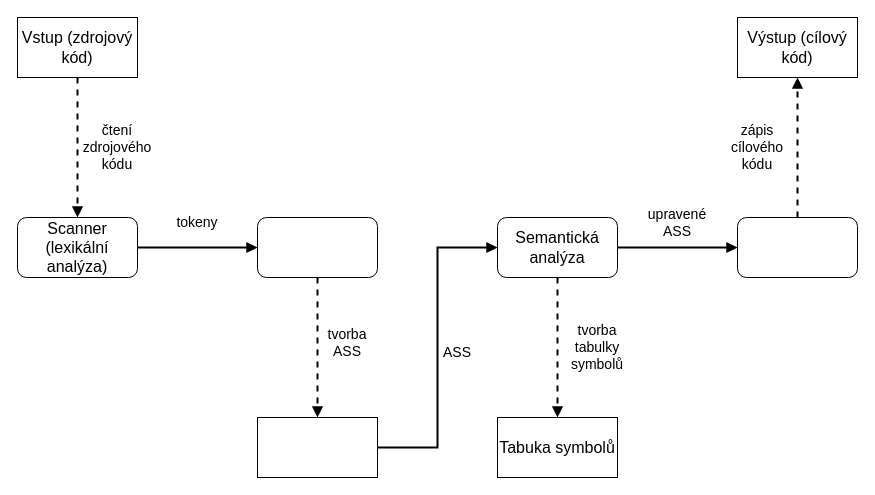
Some shapes in this 875 by 495 pixel diagram are drawn without their labels. Each missing label, with the centre of its shape:
Abstraktní syntaktický strom: point 317,447
Generátor kódu: point 797,247
Parser (syntaktická analýza): point 317,247
